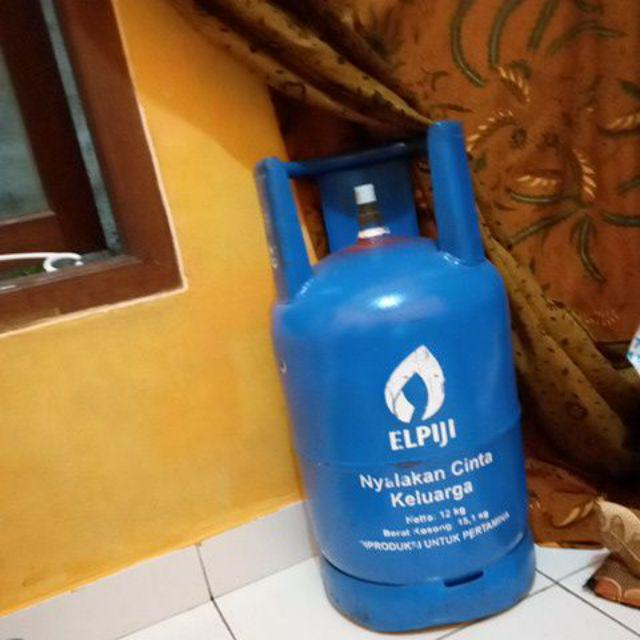blue_gas: (250, 117, 540, 636)
